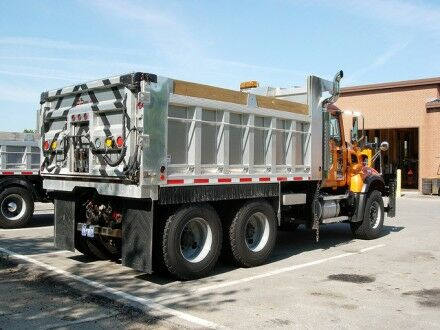truck: (35, 68, 396, 282)
